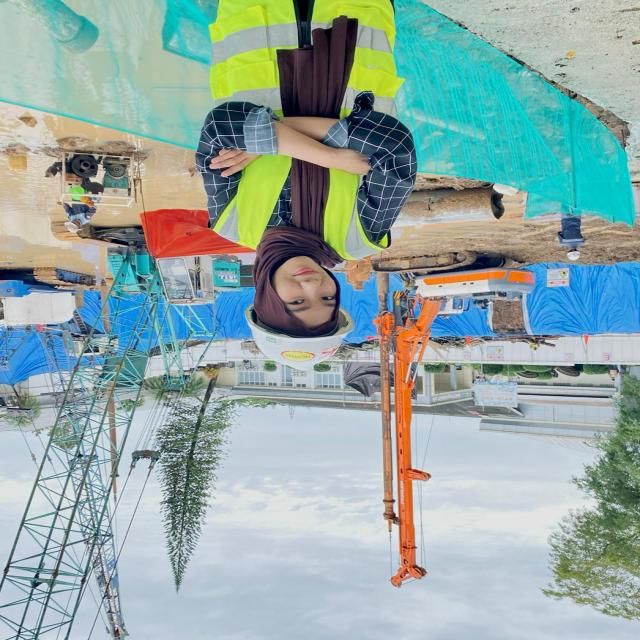safetyhelmet: (231, 251, 351, 377)
